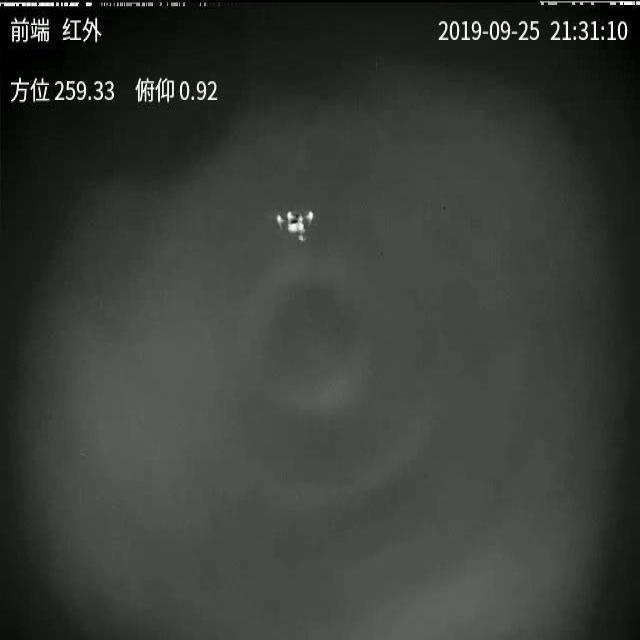drone: (274, 207, 318, 244)
